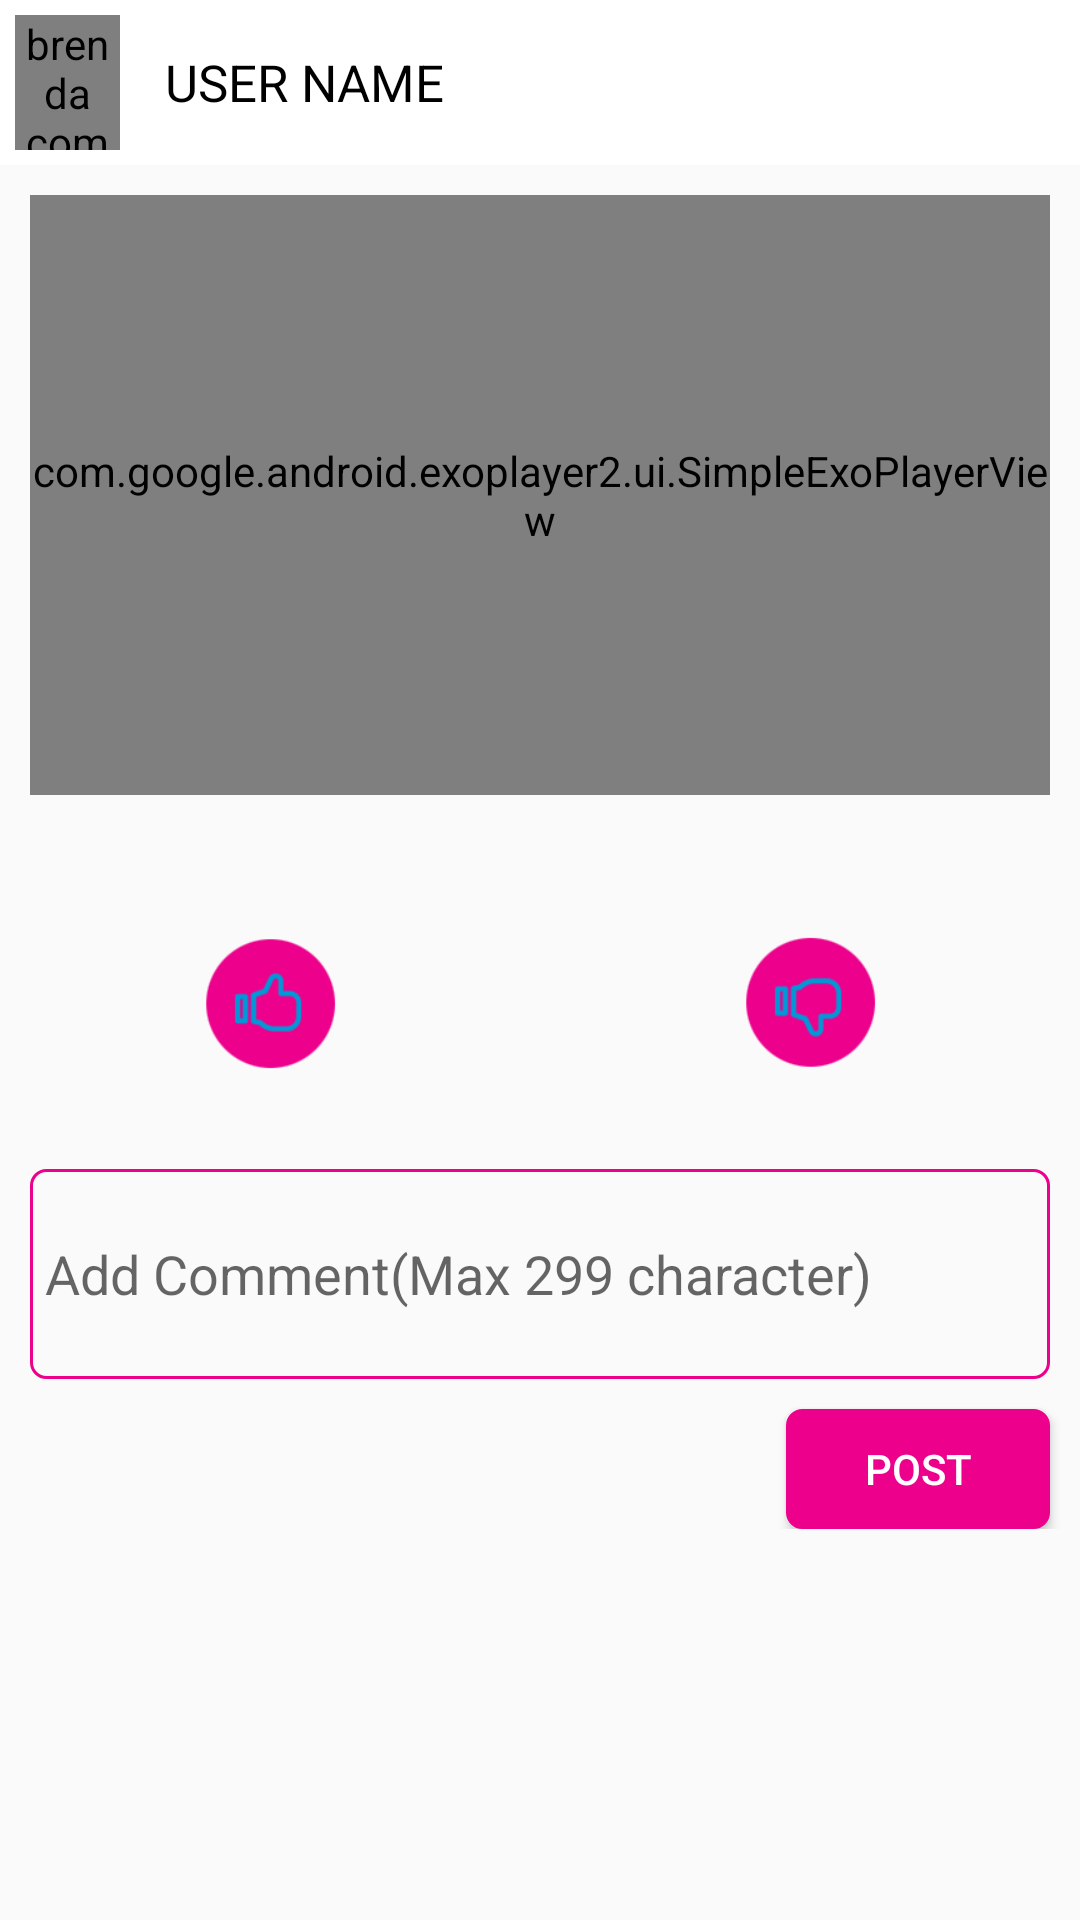

Named icons in this screenshot (1080px×1920px) and their bounding boxes, bbox=(x1, y1, x2, y2):
thumb down: bbox=(746, 937, 876, 1067)
thumbs up: bbox=(206, 939, 336, 1069)
